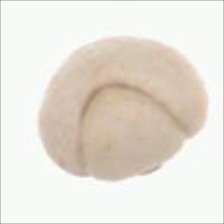L5: (76, 80, 192, 185), (60, 38, 132, 60)
L6: (35, 35, 211, 184)
